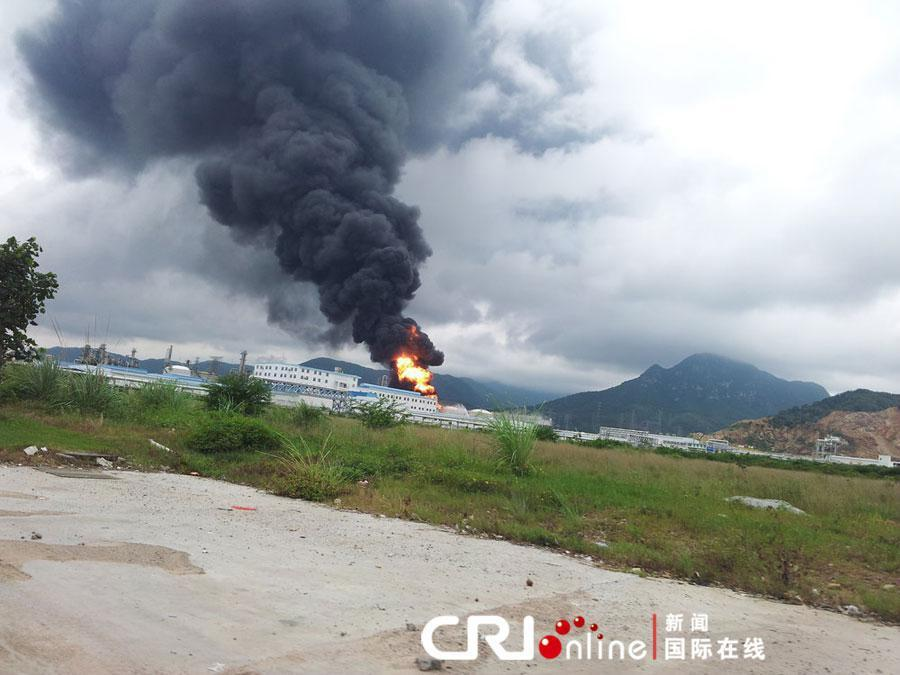fire: (389, 343, 437, 403)
